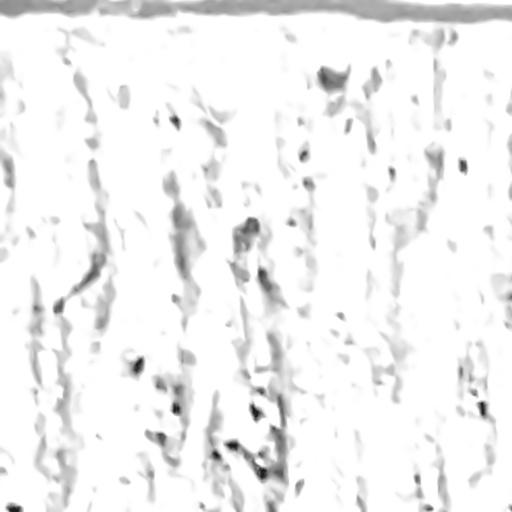egg: (249, 402, 263, 421), (131, 356, 143, 374), (255, 465, 267, 480), (224, 440, 240, 450), (477, 401, 487, 417), (6, 503, 22, 511), (172, 402, 180, 414)
